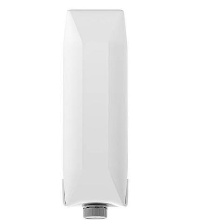carton: (57, 0, 134, 221)
